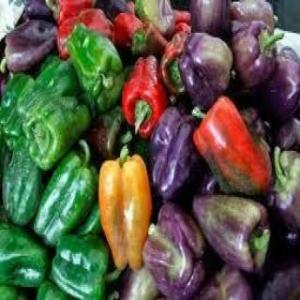bell_pepper: (30, 147, 102, 247), (65, 23, 129, 116), (46, 232, 123, 294)
